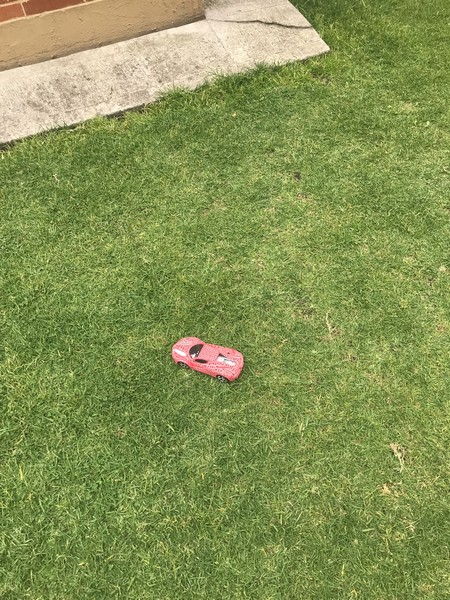RC: (170, 334, 247, 385)
